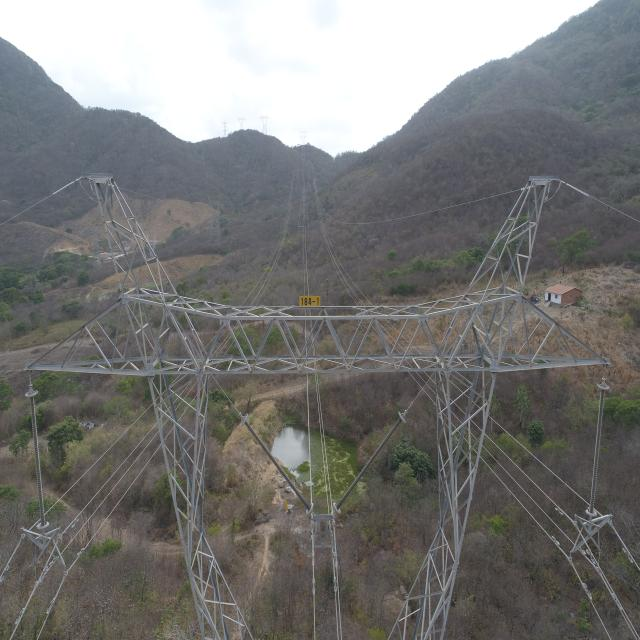杆塔: (27, 171, 612, 640)
正常电缆: (35, 449, 158, 637), (63, 437, 155, 551), (64, 424, 155, 535), (62, 403, 152, 503), (489, 450, 573, 547), (494, 416, 581, 504), (490, 436, 573, 526), (488, 465, 565, 557), (0, 167, 81, 240), (6, 554, 56, 640), (590, 555, 639, 640), (571, 561, 613, 640), (614, 525, 640, 578), (0, 536, 22, 591)
正常绝缘子: (332, 406, 408, 518), (240, 413, 315, 515), (23, 374, 57, 547), (584, 366, 612, 538)
